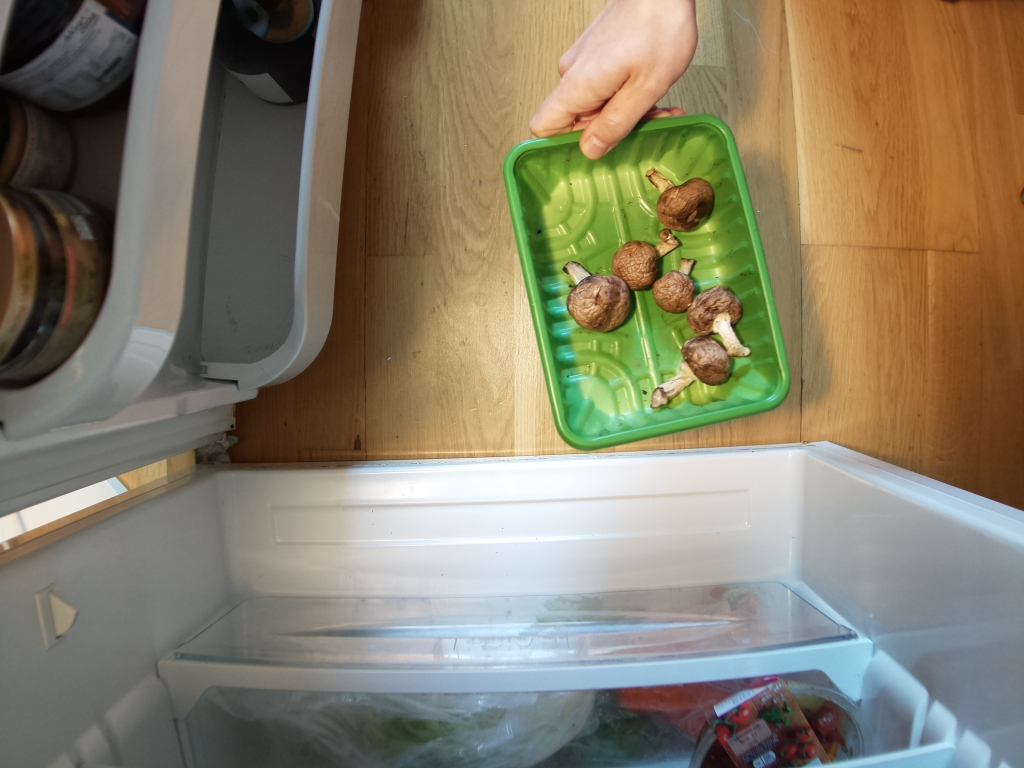mushrooms-bad: (506, 114, 794, 446)
